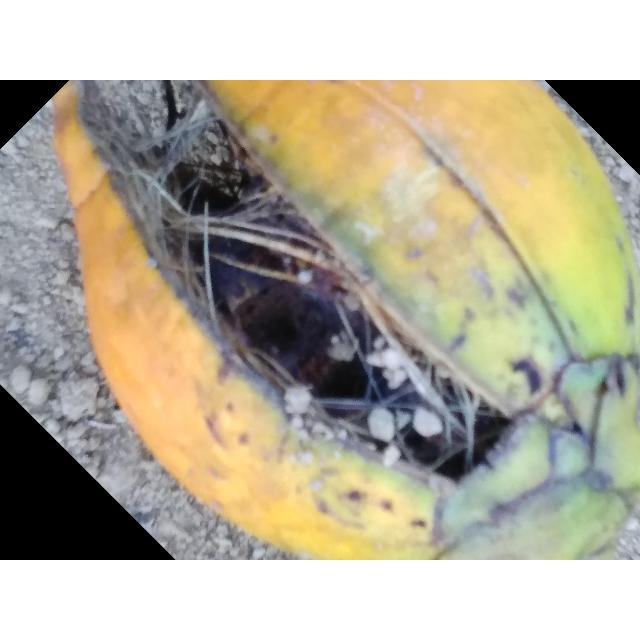damaged: (54, 80, 640, 560)
